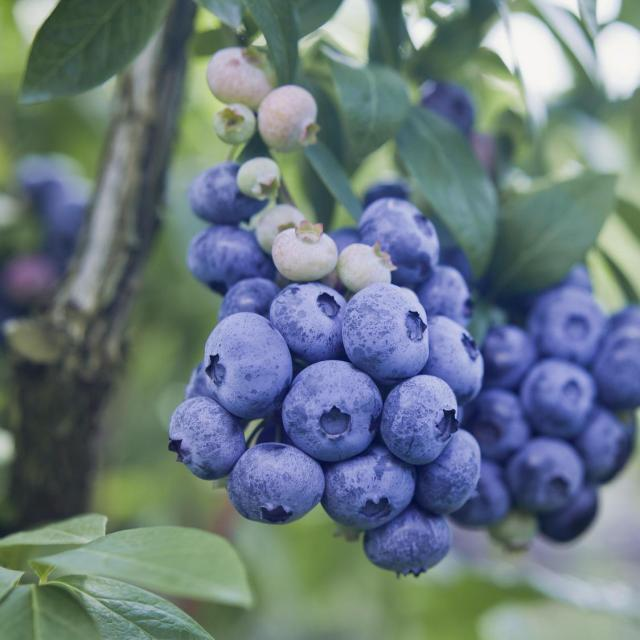BlueBerry - v1: (331, 275, 440, 388), (198, 309, 306, 422), (269, 353, 384, 459), (211, 433, 330, 528), (314, 438, 422, 536), (351, 504, 465, 589), (375, 366, 462, 469), (158, 392, 254, 484), (348, 190, 446, 277), (174, 224, 288, 297), (517, 347, 600, 445), (412, 422, 492, 522), (520, 282, 609, 371), (262, 279, 354, 363), (499, 430, 587, 515), (417, 313, 492, 404), (181, 160, 269, 231), (200, 43, 285, 113), (250, 78, 326, 156), (266, 219, 346, 286), (413, 261, 483, 331), (473, 315, 538, 389), (325, 236, 399, 299), (570, 409, 630, 483), (208, 275, 290, 325), (588, 329, 640, 407), (228, 151, 286, 202), (214, 99, 257, 149)
